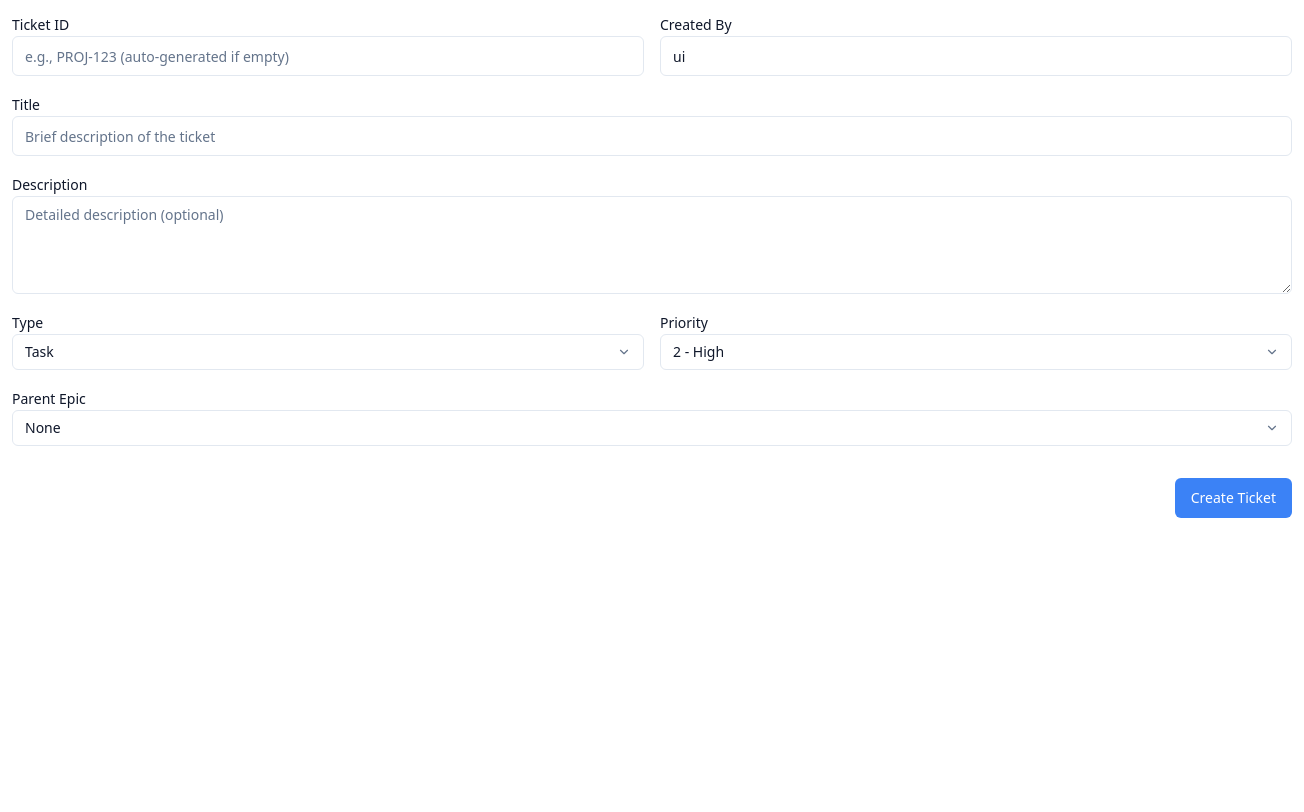
TicketForm - Dropdown (Controller) integration › Parent Epic dropdown › shows None option plus all parent options when opened
Click the button "None" at [43, 428], box [12,410,1292,446]
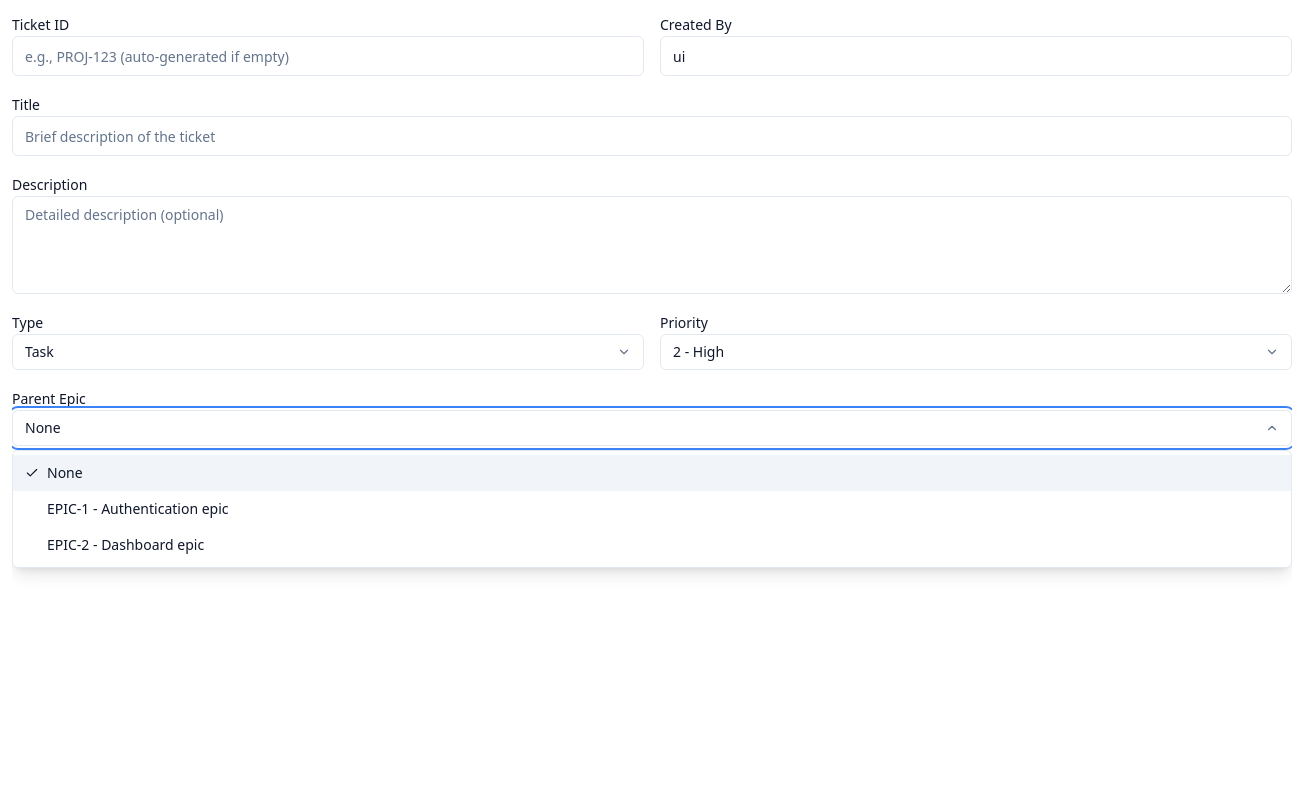
Expected: the text "EPIC-1 - Authentication epic" is shown, [47,499,228,519]
Expected: the text "EPIC-2 - Dashboard epic" is shown, [47,535,204,555]
